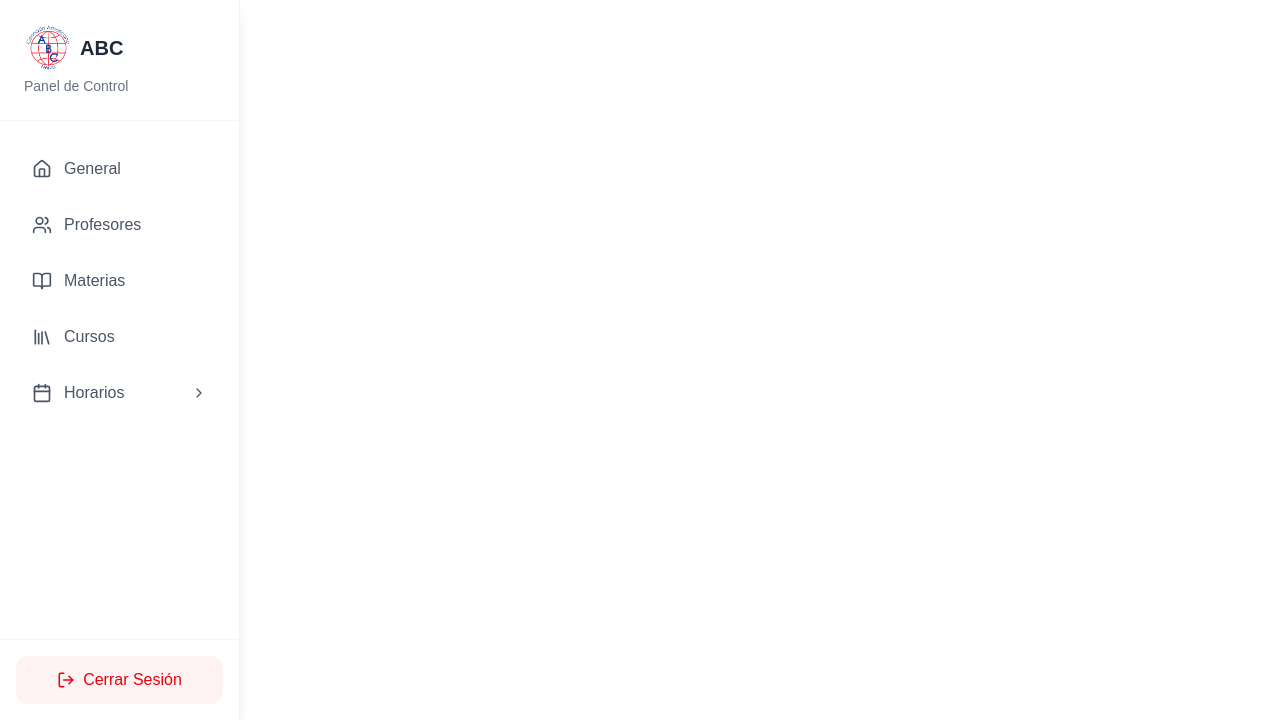
Scenario: Sidebar Component › closes modal when cancel is clicked
Open modal
Step 1. Click the button "Cerrar Sesión" → (120,680), box left=16, top=656, right=223, bottom=704
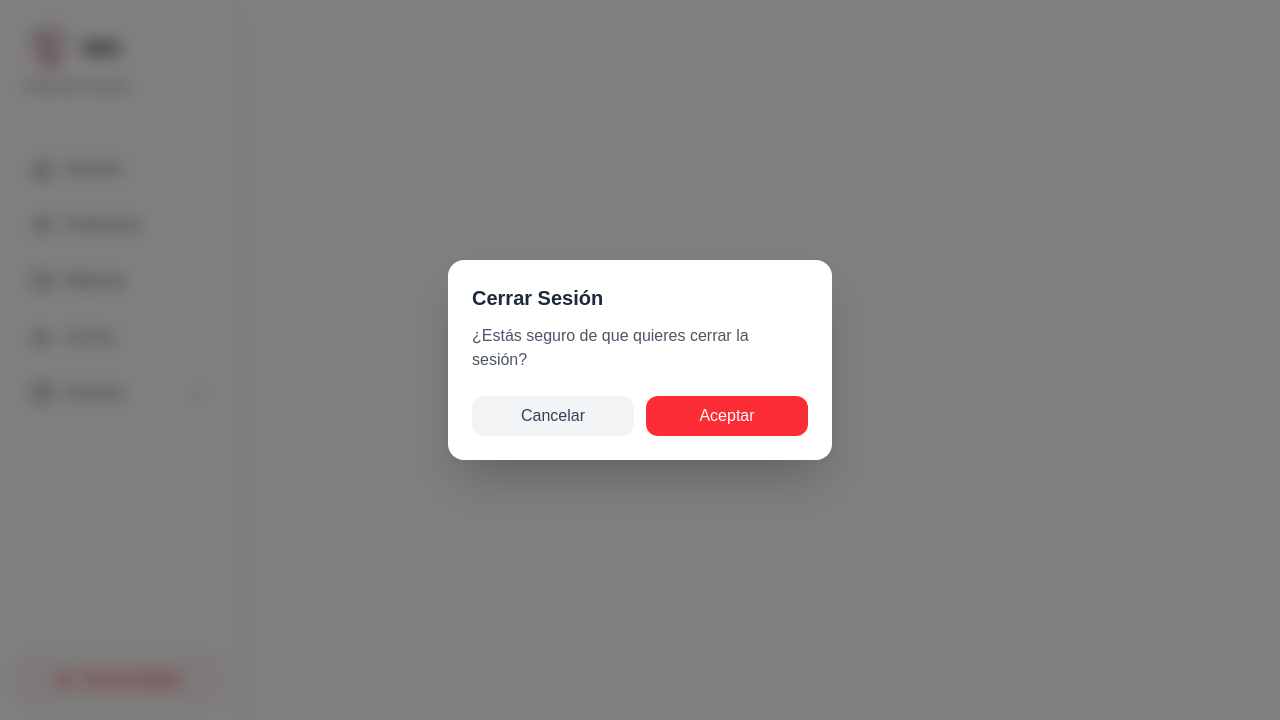
Click cancel
Step 2. Click the button "Cancelar" → (553,416), box left=472, top=396, right=634, bottom=436
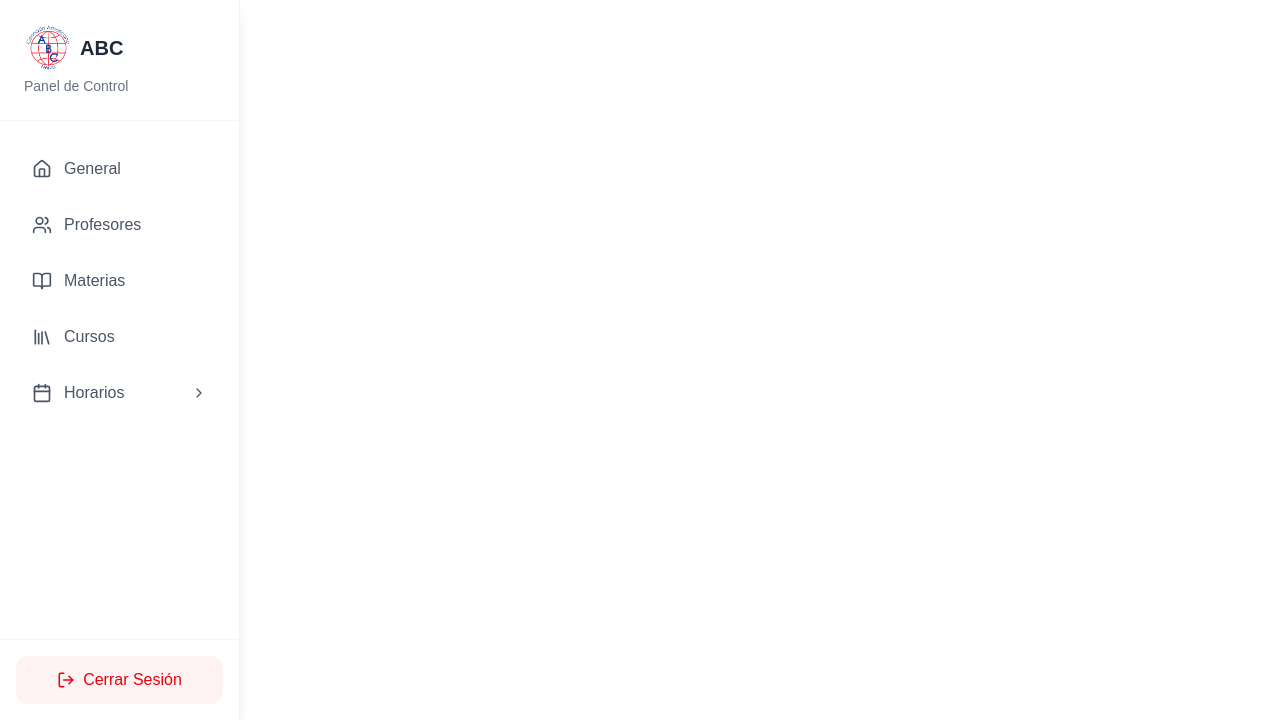
Now the text "¿Estás seguro de que quieres cerrar la sesión?" is gone
